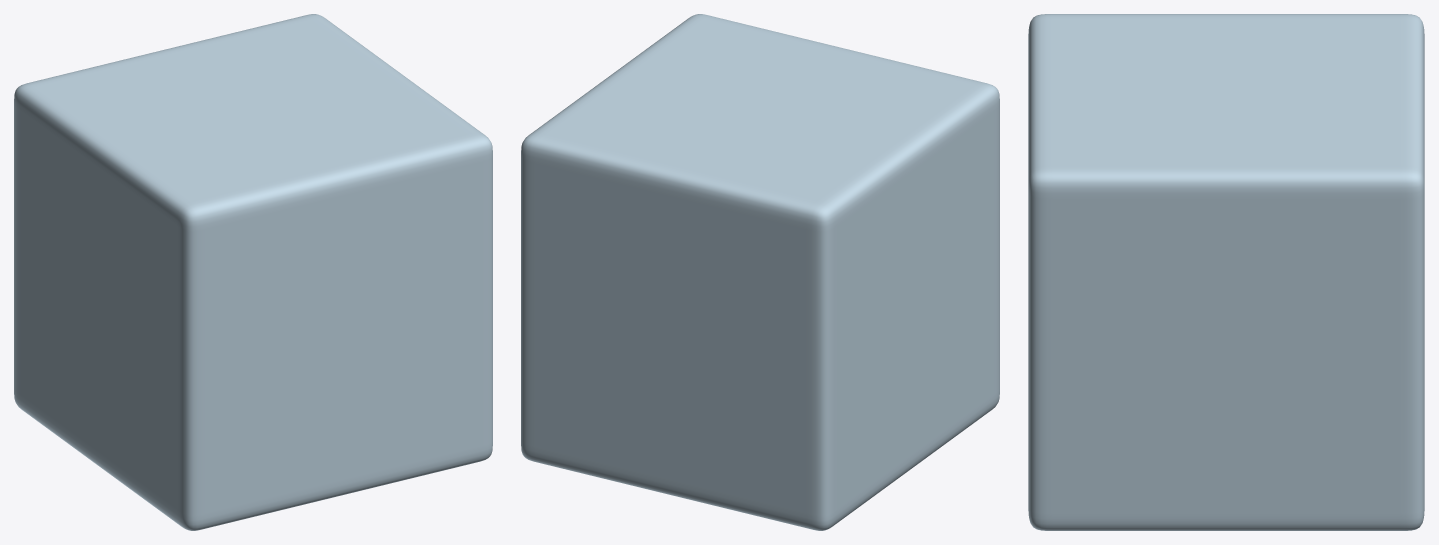
Rendered from icecube.fbx.
3 renders of one model, left to right at view 1: azimuth 30°, elevation 25°; view 2: azimuth 150°, elevation 25°; view 3: azimuth 270°, elevation 25°, orthographic. The views are drawn at different scales.
Visible parts, largest first — view 1: Cube; view 2: Cube; view 3: Cube.
Boxes of the visible parts, x1,y1,x2,y2 form: Cube: (14, 14, 492, 530); Cube: (521, 14, 999, 530); Cube: (1028, 14, 1424, 530).
Bounding box in the file's own units: 2 × 2 × 2.
